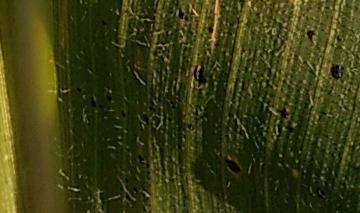tarspot: (192, 62, 208, 88), (222, 157, 242, 175), (329, 62, 345, 80), (135, 153, 150, 168), (275, 107, 290, 120), (314, 186, 326, 201), (151, 115, 163, 130), (305, 28, 315, 44), (123, 192, 137, 203), (176, 5, 185, 22), (88, 94, 97, 110), (283, 125, 296, 134), (96, 101, 106, 112), (104, 91, 113, 102), (140, 113, 149, 124), (206, 24, 215, 34), (275, 123, 283, 134), (167, 99, 175, 110), (130, 184, 139, 193), (73, 86, 83, 94), (119, 108, 127, 118), (142, 19, 155, 25), (99, 18, 107, 27), (140, 204, 148, 213), (148, 99, 154, 110), (335, 34, 342, 42), (186, 122, 193, 130)
